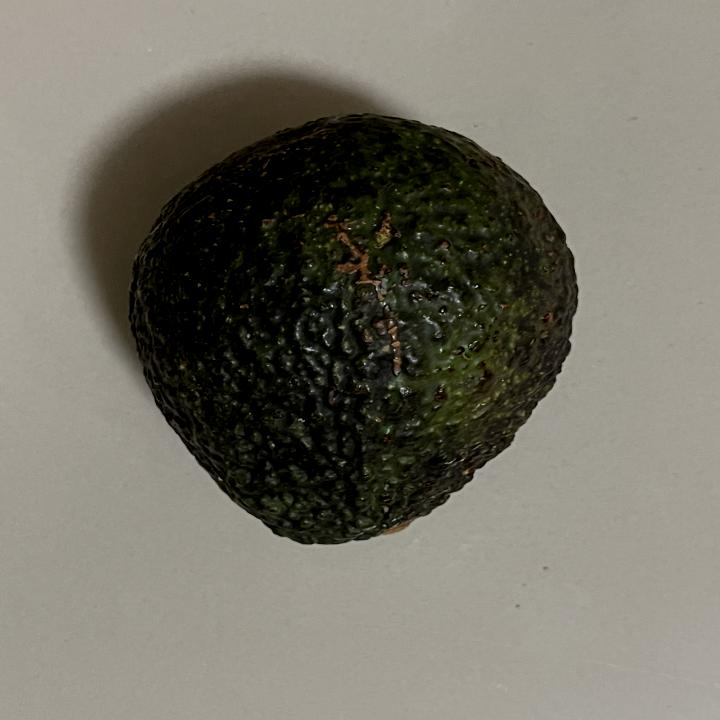Level1: (114, 102, 598, 558)
